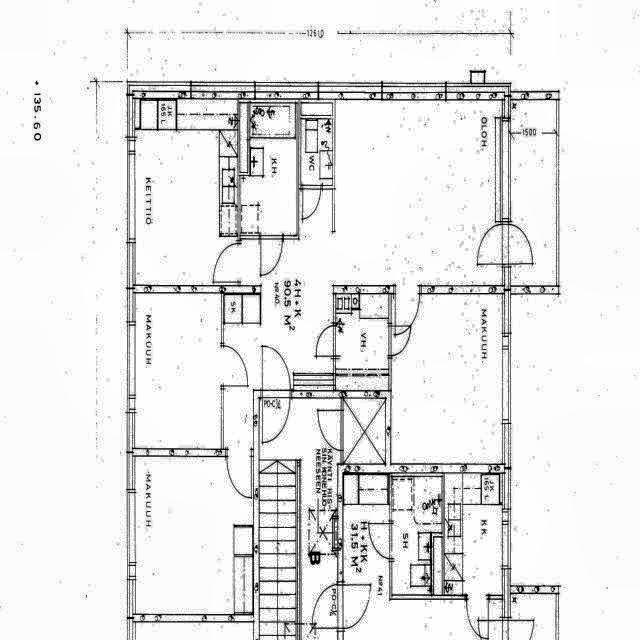room: (135, 99, 238, 285), (391, 294, 502, 464), (135, 456, 253, 614), (135, 293, 221, 449), (511, 100, 556, 285), (240, 103, 297, 235), (444, 473, 502, 595), (392, 473, 442, 595), (336, 294, 389, 369), (343, 398, 386, 464), (301, 103, 332, 185)
